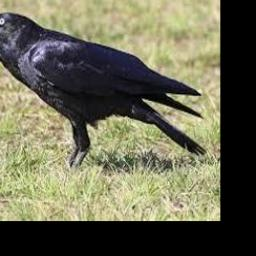Crow: (0, 12, 206, 171)
